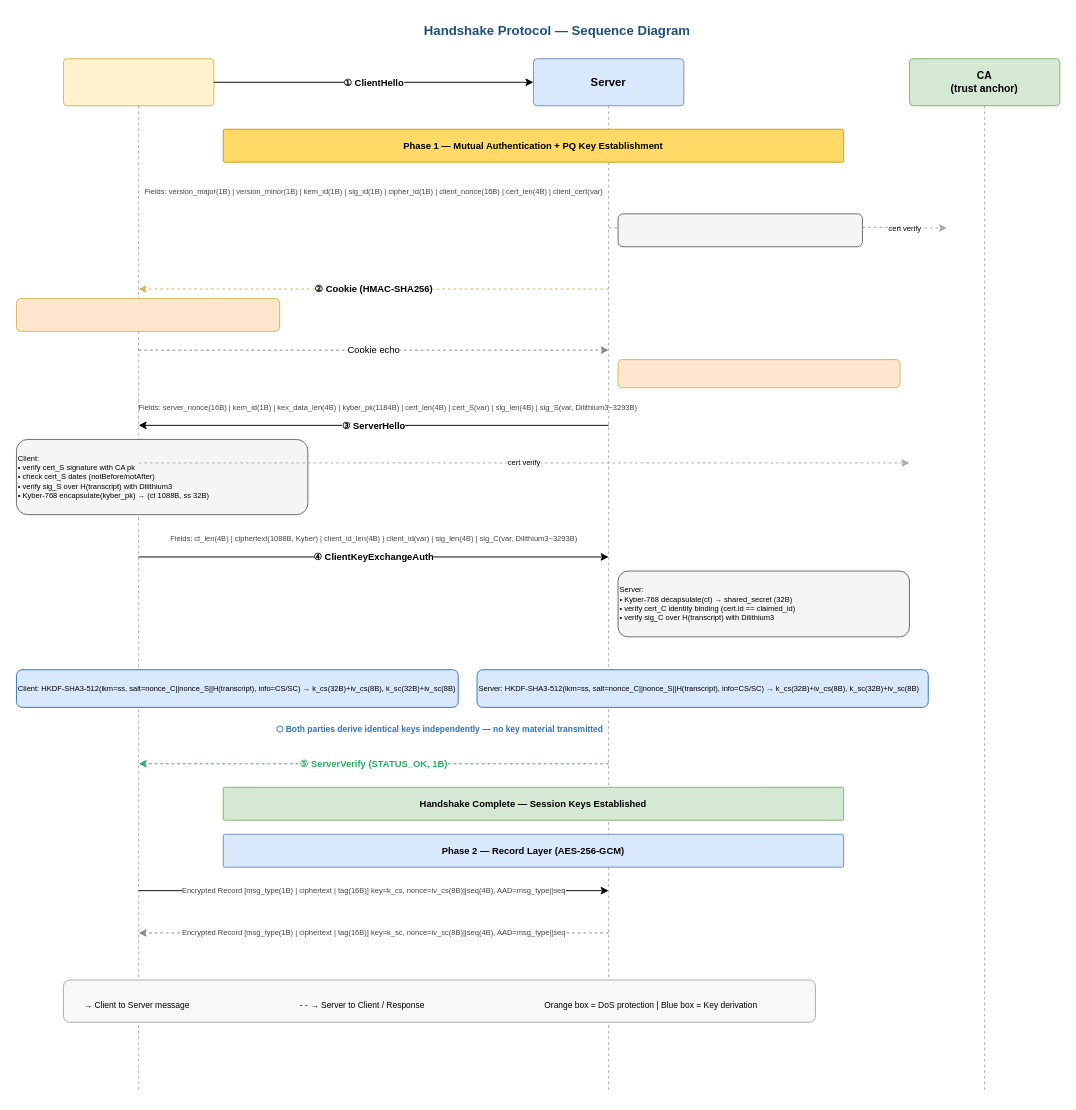
Image size: 1076x1110. Some labels were removed from this diagram. The centre of each missing label's shape, as x and y in pixels:
Client: [138,82]
DoS Mitigation: stateless HMAC cookie before any Kyber/Dilithium operation: [148,314]
Server: verify cookie (HMAC-SHA256, hmac.compare_digest) → proceed: [758,373]
verify client_cert with CA pk: [739,230]
